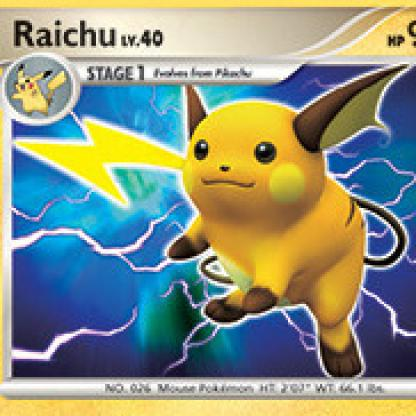Raichu: (1, 21, 416, 416)
